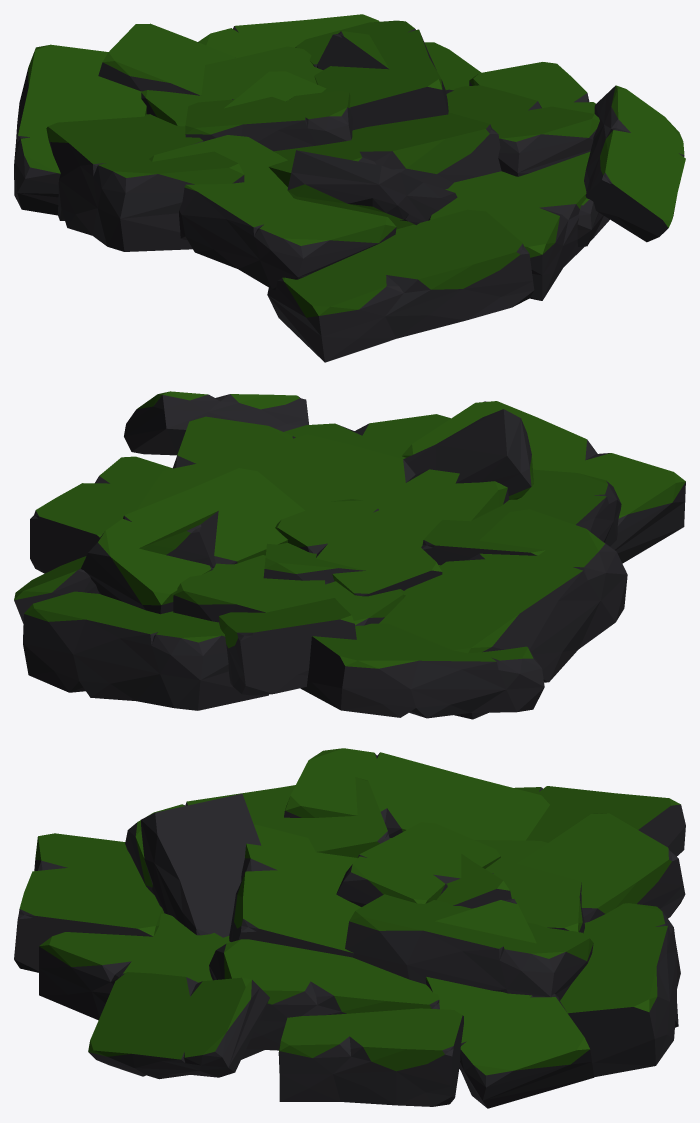
The model's file is Wreck_D.FBX.
The picture shows the model from 3 angles, top to bottom: view 1: azimuth 30°, elevation 25°; view 2: azimuth 150°, elevation 25°; view 3: azimuth 270°, elevation 25°; orthographic projection. The views are drawn at different scales.
Visible parts, largest first — view 1: Wreck_002; view 2: Wreck_002; view 3: Wreck_002.
Part boxes in pixels (<box>): Wreck_002: <box>14,14,685,362</box>; Wreck_002: <box>14,391,685,719</box>; Wreck_002: <box>14,748,685,1108</box>.
Size of the model in its own units: 264 by 74.23 by 274.
